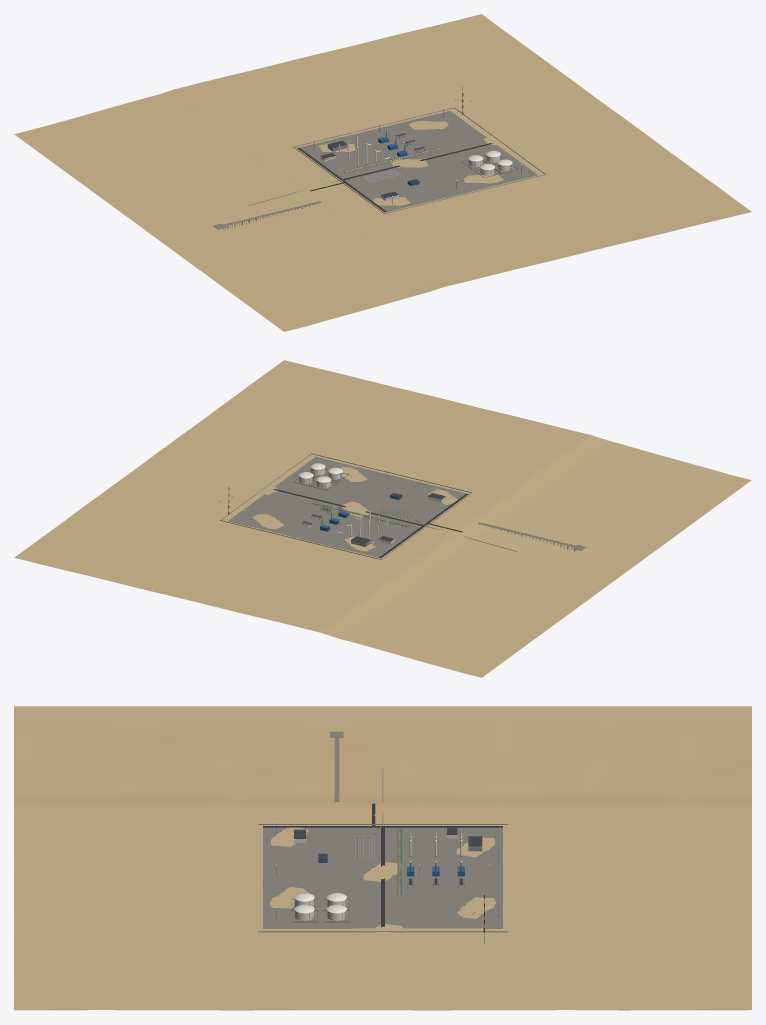
File: shore.glb
3 renders of one model, top to bottom at view 1: azimuth 30°, elevation 25°; view 2: azimuth 150°, elevation 25°; view 3: azimuth 270°, elevation 25°, orthographic. The views are drawn at different scales.
Visible parts, largest first — view 1: shore_static; view 2: shore_static; view 3: shore_static.
Boxes of the visible parts, x1,y1,x2,y2 form: shore_static: (14,14,751,331); shore_static: (14,360,751,677); shore_static: (14,706,751,1010).
Bounding box in the file's own units: 1600 × 110 × 1600.
Materials: 22 (5 with a texture image).
